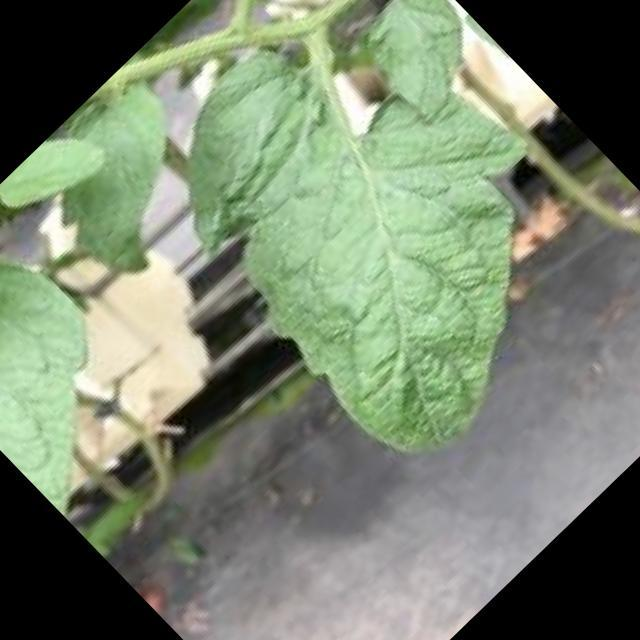Tomato healthy leaf: (187, 0, 532, 457), (0, 260, 94, 517), (0, 136, 108, 213)
